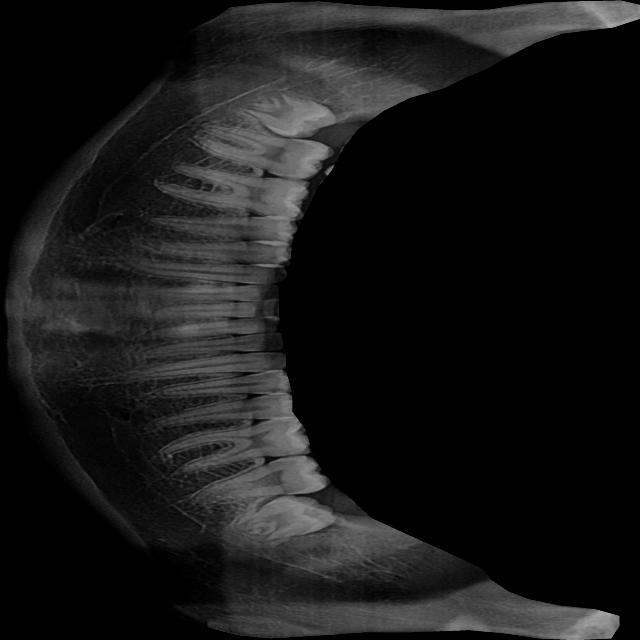mandibula: (0, 0, 640, 640)
